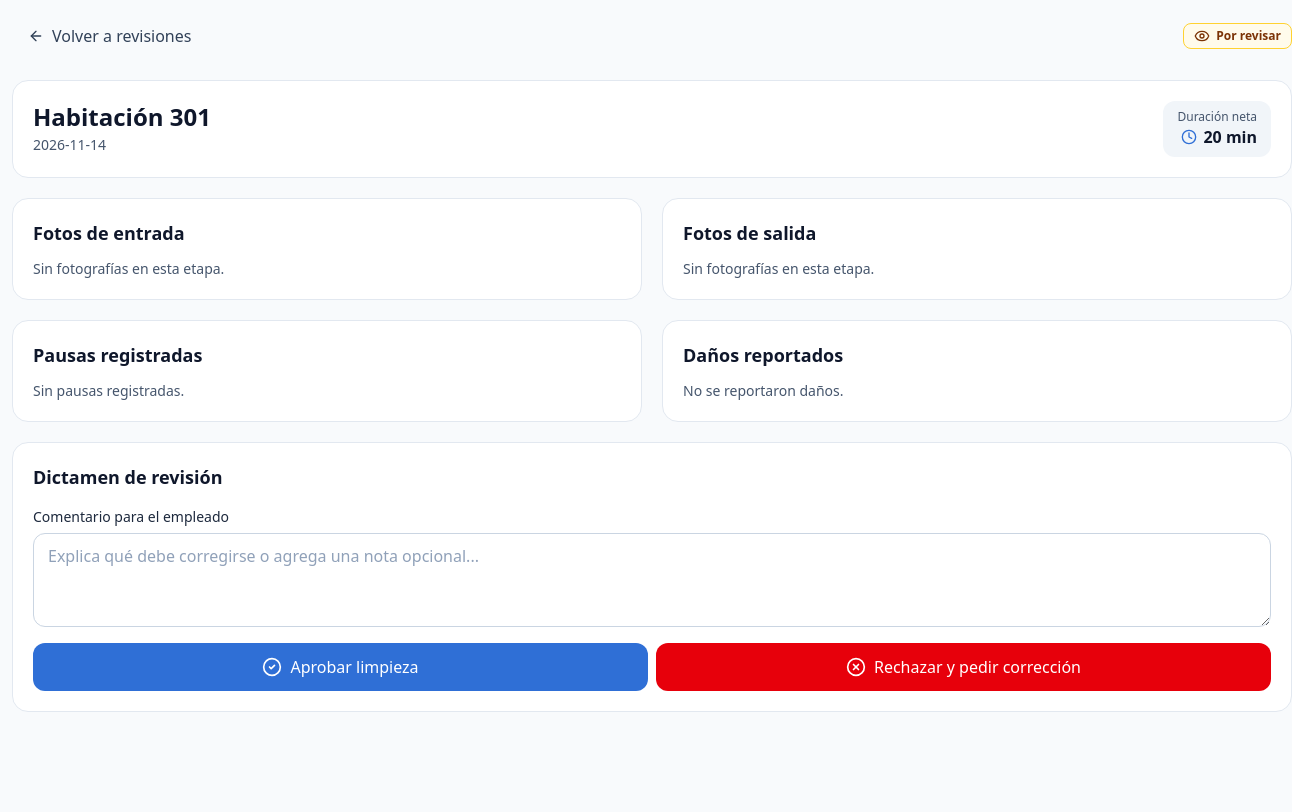
it: Módulo de supervisor (Revisiones) › exige comentario obligatorio al rechazar una limpieza en DetalleRevisionPage
Click the button "Rechazar y pedir corrección" at (964, 667), box [656, 643, 1271, 691]
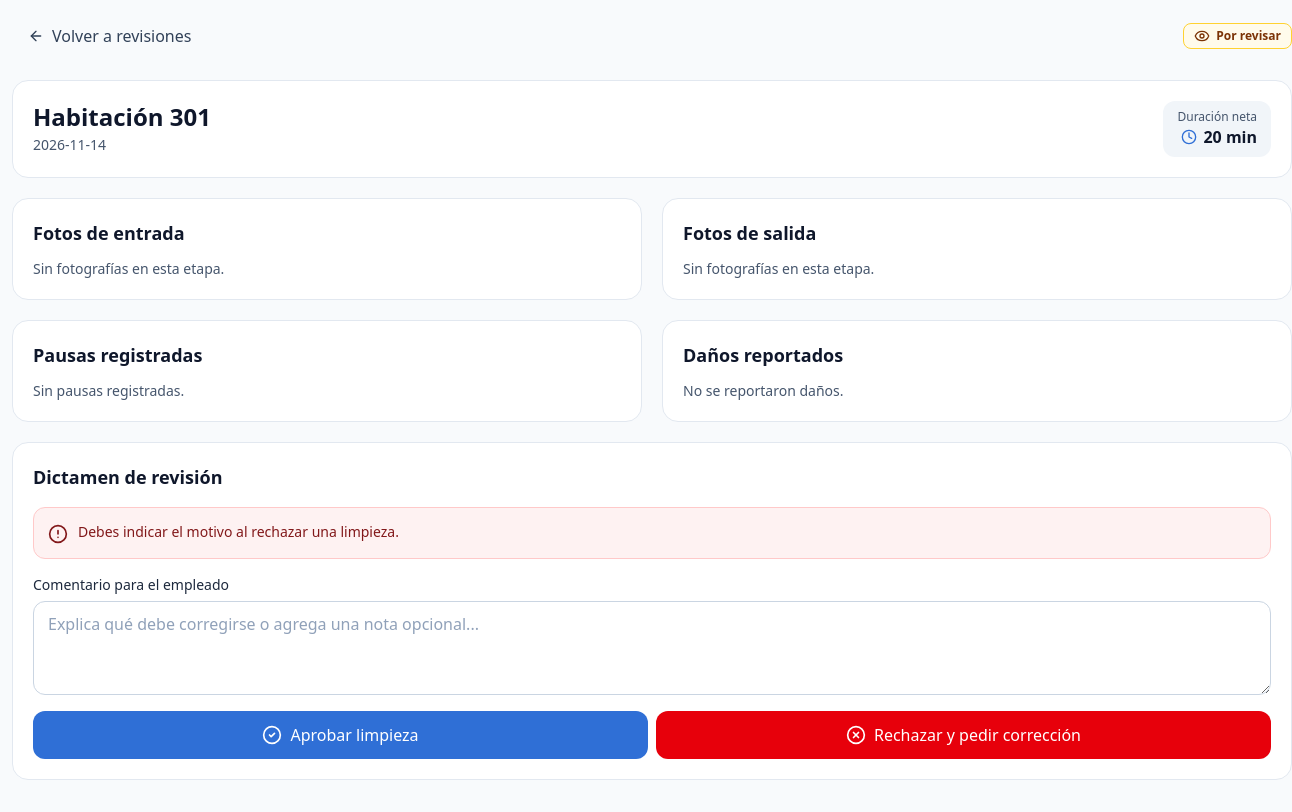
Expected: the message reads "Debes indicar el motivo al rechazar una limpieza.", [78, 522, 399, 541]
